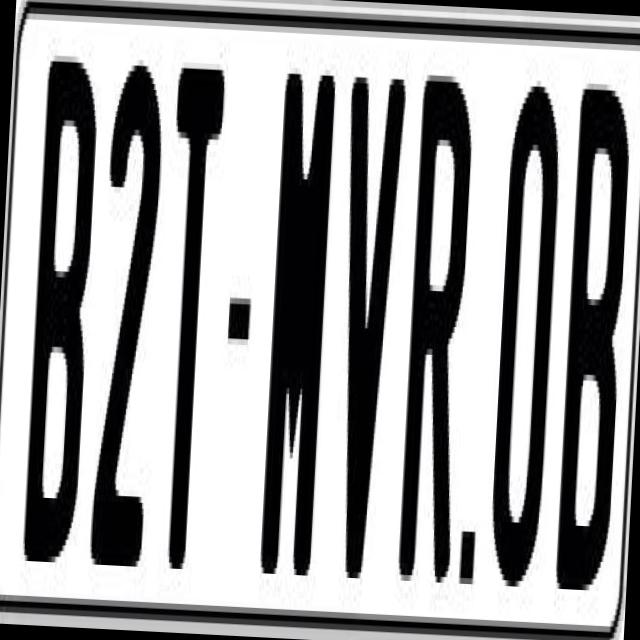0: (487, 86, 567, 588)
2: (87, 59, 170, 578)
B: (21, 44, 101, 558), (552, 71, 626, 609)
M: (256, 68, 336, 588)
T: (151, 68, 229, 588)
V: (325, 71, 407, 609)
